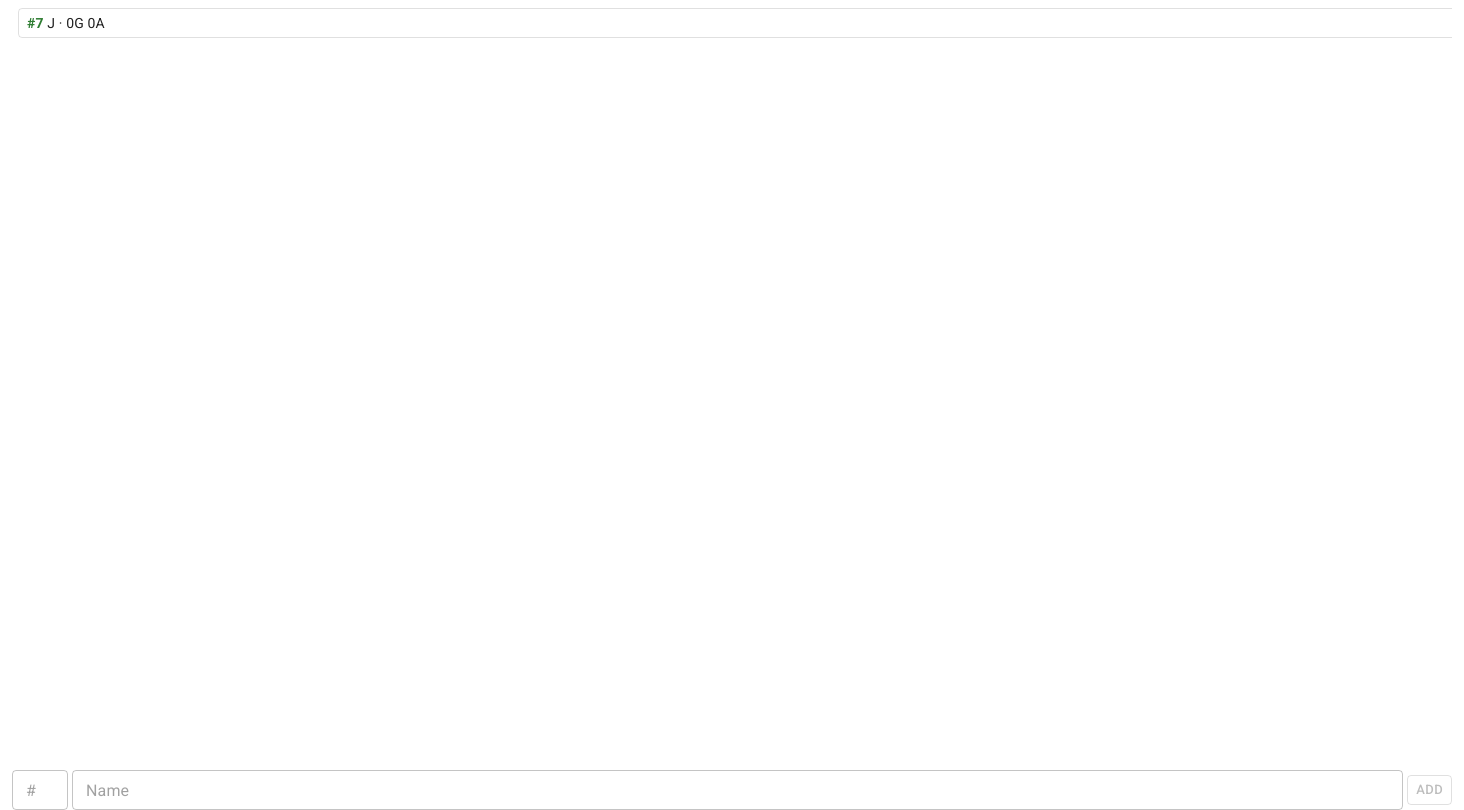
Scenario: TeamPanel › Add is disabled until a number is entered
The width and height of the screenshot is (1464, 810).
Expected: the button "Add" is disabled, [1407,775,1452,805]
Type "22" into the field with placeholder "#" at x=40, y=790, box [12,770,68,809]
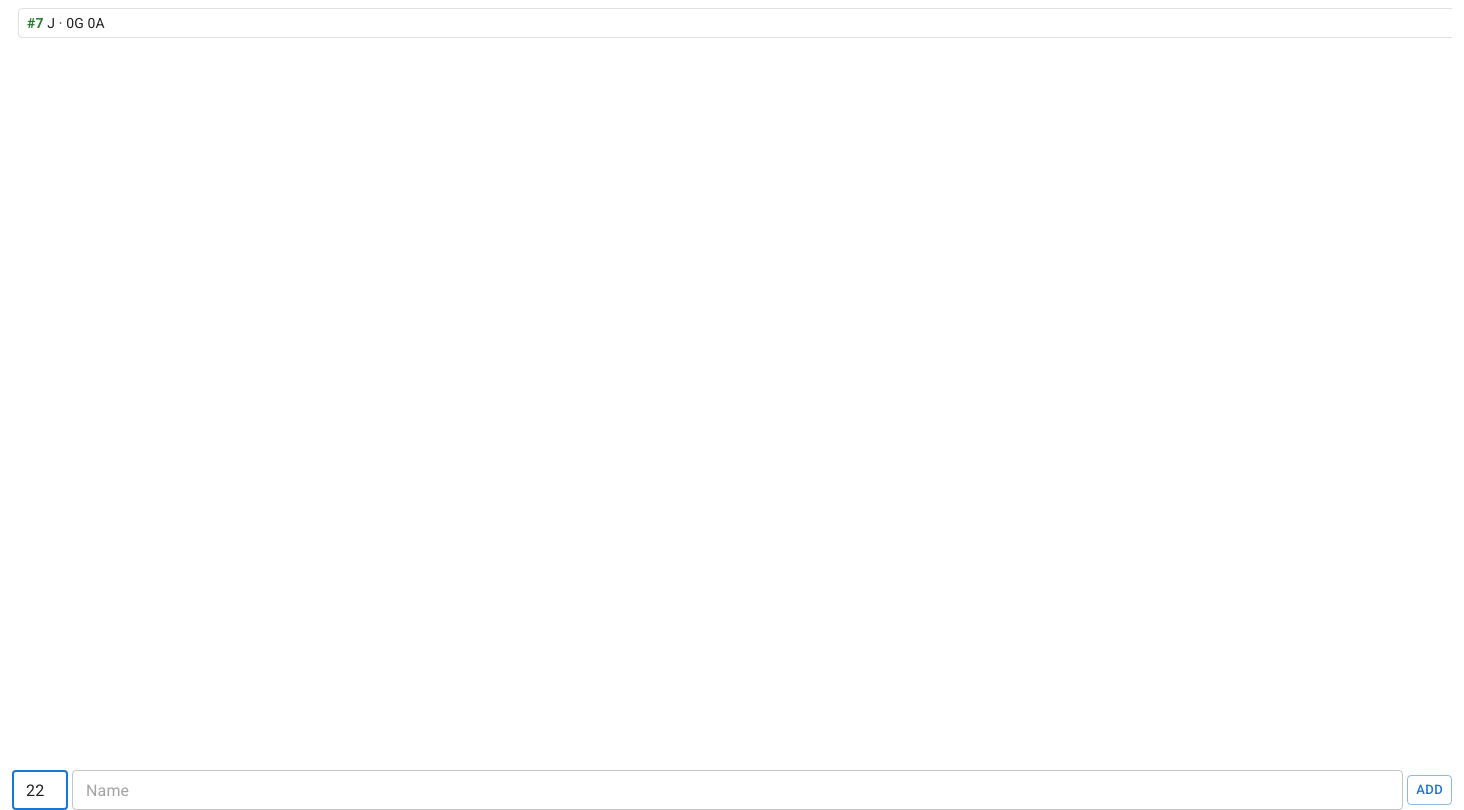
Expected: the button "Add" is enabled, [1407,775,1452,805]
